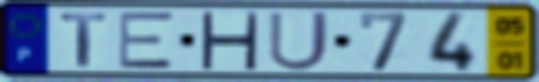4: (424, 10, 480, 75)
7: (356, 10, 411, 74)
E: (115, 10, 177, 71)
H: (197, 9, 262, 72)
T: (58, 11, 109, 69)
U: (266, 9, 334, 74)
